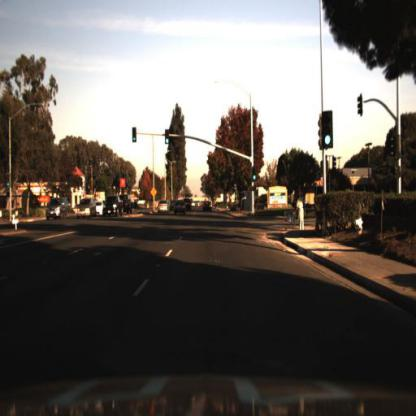car: (41, 197, 68, 223), (100, 194, 125, 218), (75, 196, 99, 220), (103, 195, 124, 219), (117, 192, 134, 215), (173, 198, 188, 219), (202, 198, 215, 218), (156, 199, 170, 216), (180, 197, 193, 215)
pedestrian: (296, 196, 308, 233)
trafficLight-Green: (321, 110, 336, 151), (322, 111, 334, 155), (164, 128, 172, 146), (252, 167, 259, 184), (165, 130, 171, 148), (252, 168, 258, 185)
trafficLight-GreenLeft: (132, 124, 139, 145), (131, 126, 139, 144)
